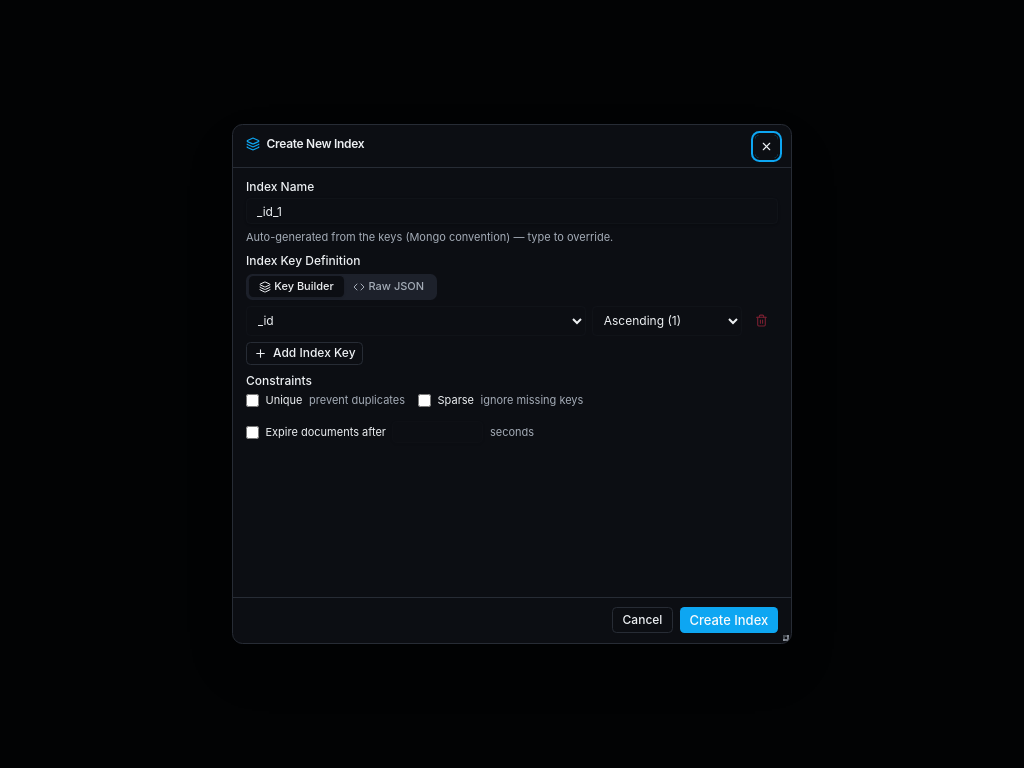
Scenario: IndexModal Component › auto-generates the index name from keys until manually overridden
The width and height of the screenshot is (1024, 768).
Check: the field with test id "index-name-input" holds "_id_1", box [246,198,778,224]
// Changing the key field/direction regenerates the name.
Select "email" in the dropdown with test id "index-key-field-0" at (416, 321), box [246,306,586,336]
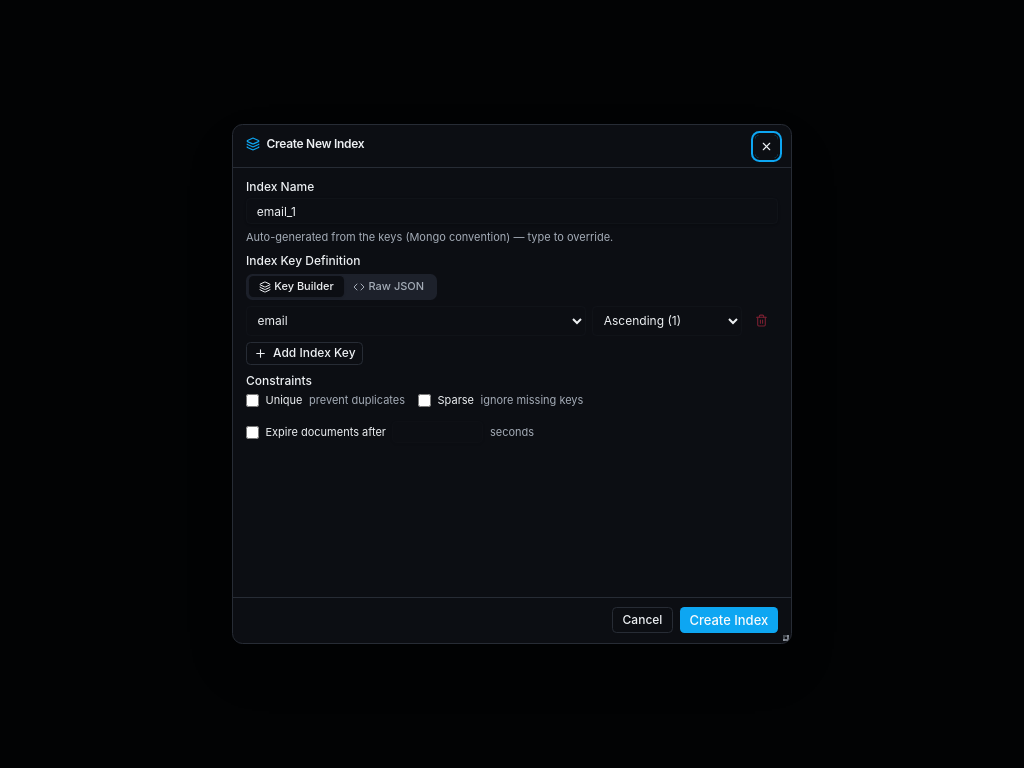
Check: the field with test id "index-name-input" holds "email_1", box [246,198,778,224]
Select "Descending (-1)" in the dropdown with test id "index-key-direction-0" at (667, 321), box [592,306,742,336]
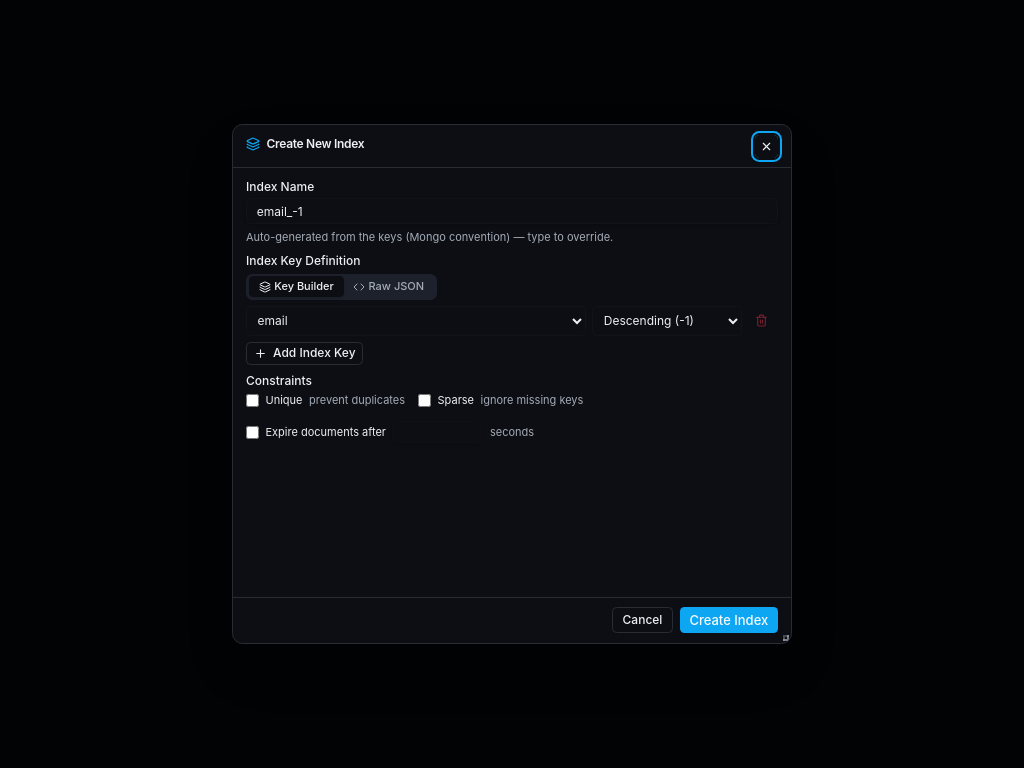
Check: the field with test id "index-name-input" holds "email_-1"
// A manually typed name sticks…
Replace the text in the field with test id "index-name-input" with "my_custom_name" at (512, 211), box [246,198,778,224]
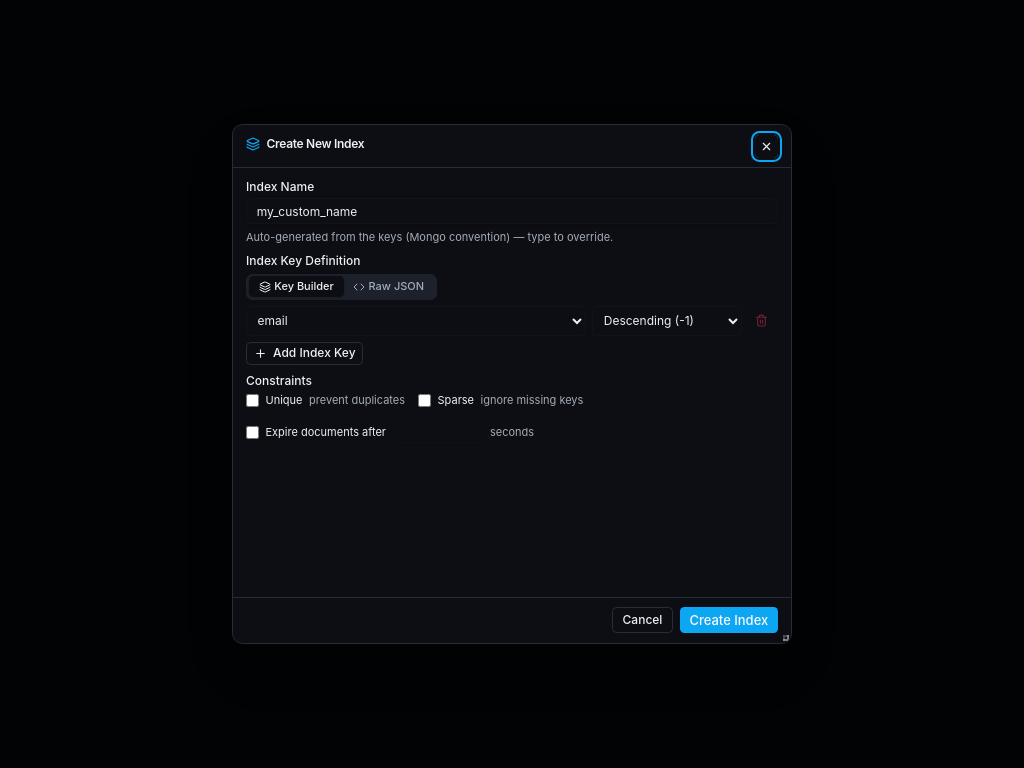
Select "status" in the dropdown with test id "index-key-field-0" at (416, 321), box [246,306,586,336]
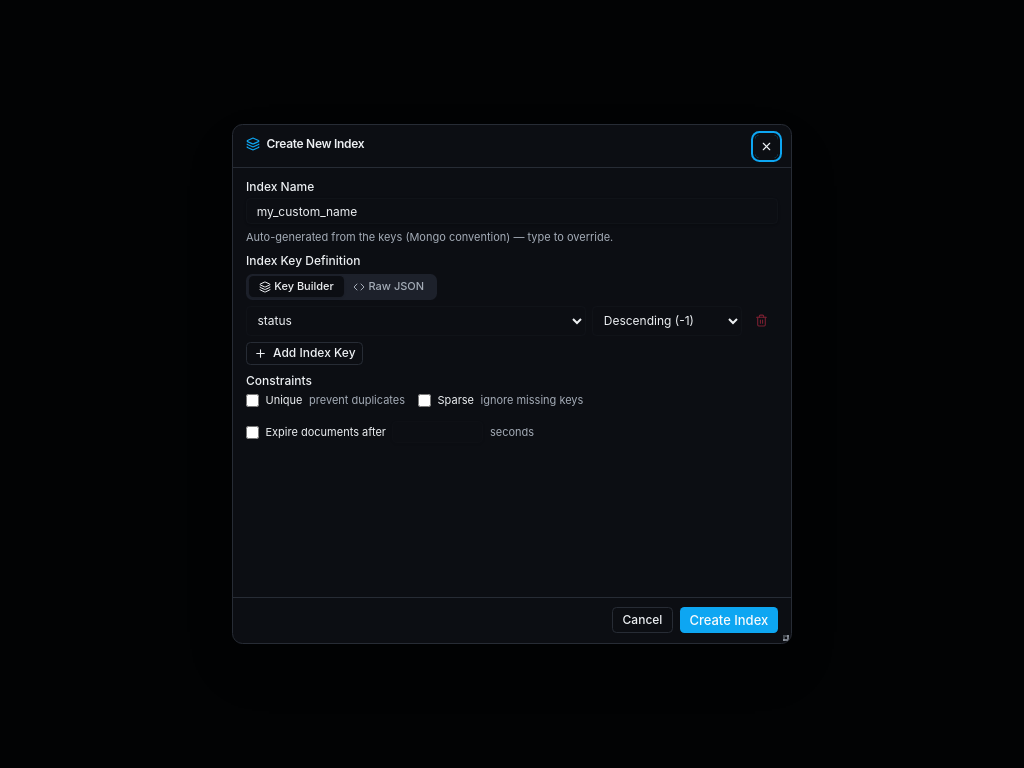
// …and clearing it resumes auto-generation.
Clear the field with test id "index-name-input" at (512, 211), box [246,198,778,224]
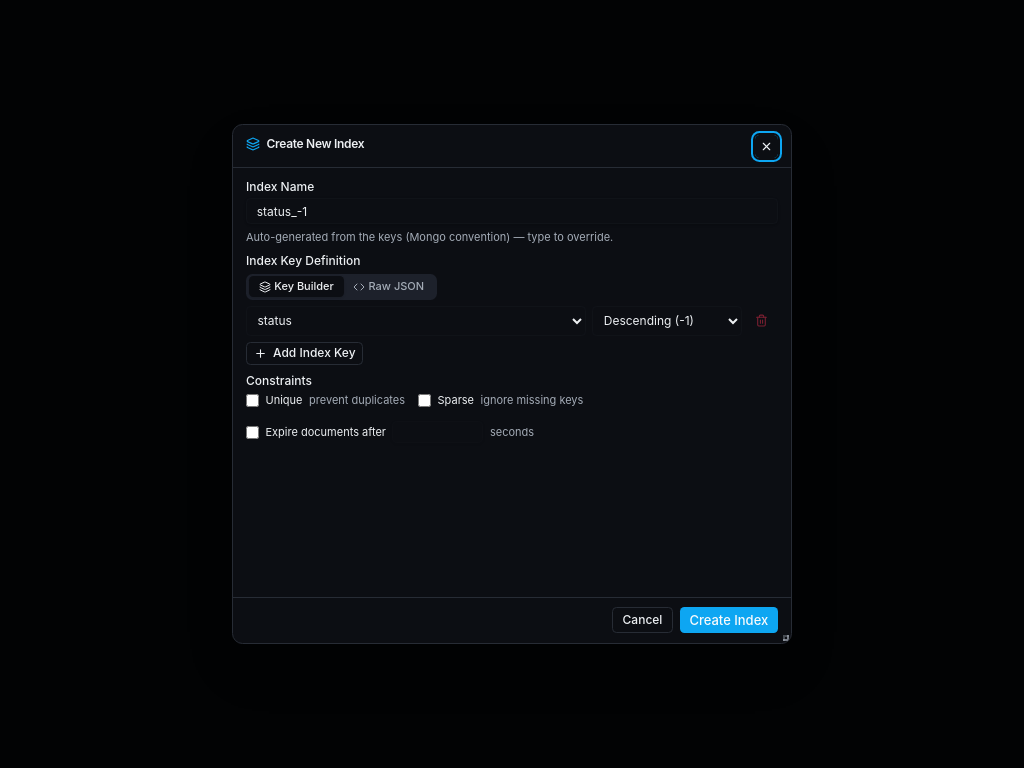
Check: the field with test id "index-name-input" holds "status_-1", box [246,198,778,224]
